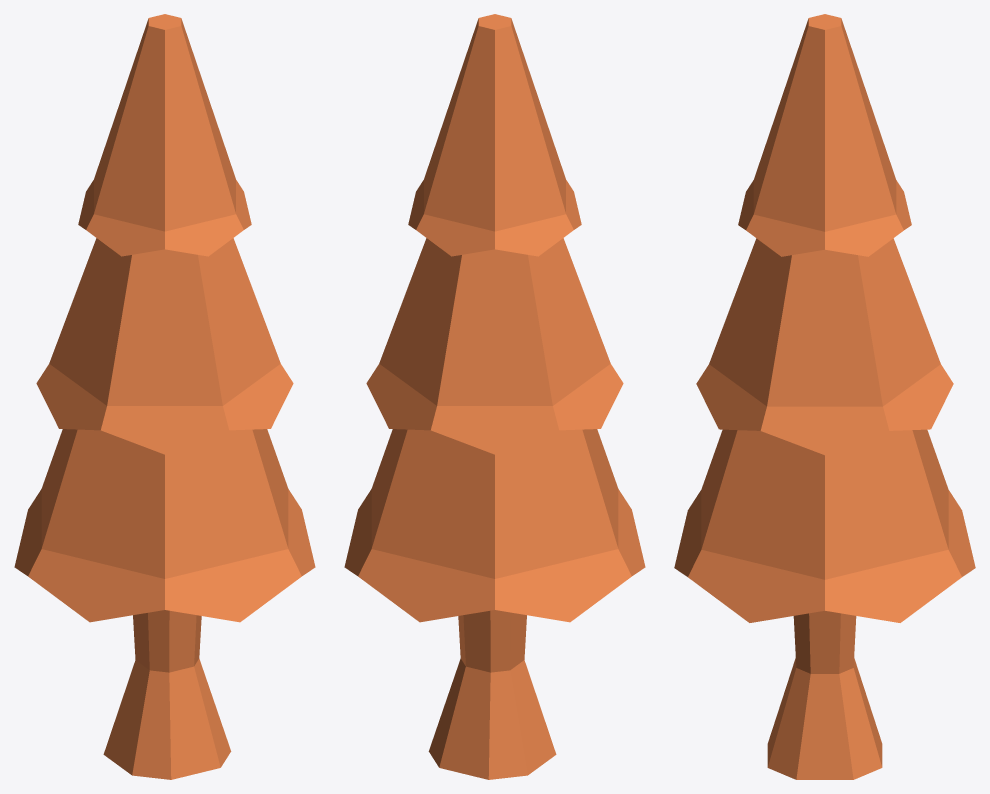
Rendered from tree-autumn.obj.
The picture shows the model from 3 angles, left to right: view 1: azimuth 30°, elevation 25°; view 2: azimuth 150°, elevation 25°; view 3: azimuth 270°, elevation 25°; orthographic projection.
Bounding box in the file's own units: 0.5529 × 1.41 × 0.5262.
